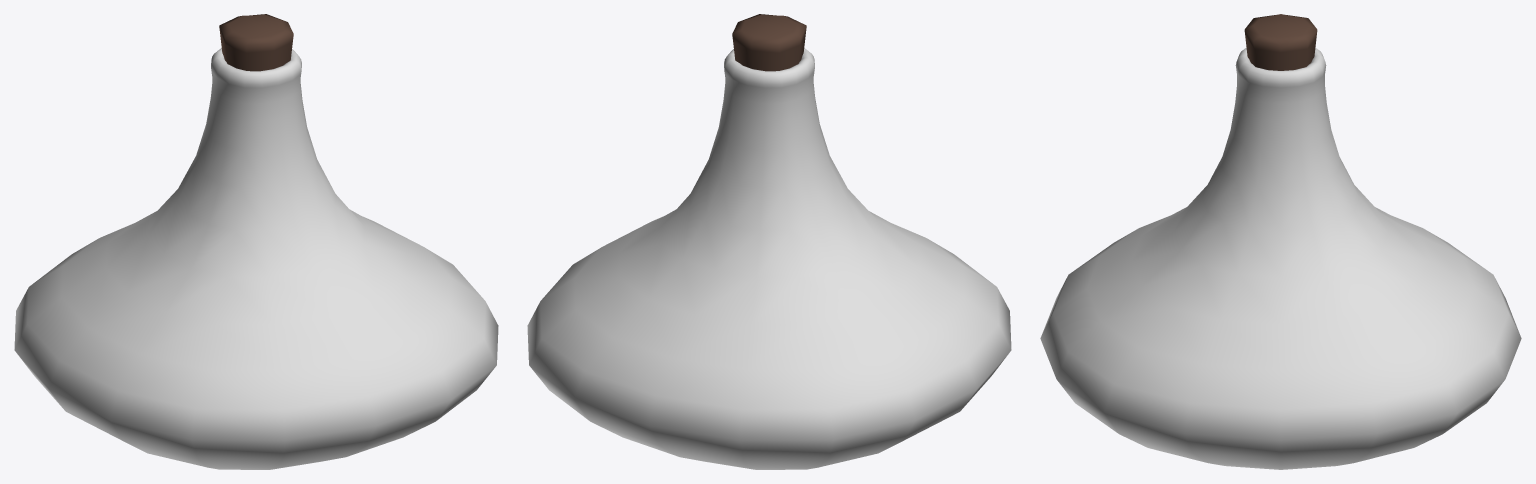
Rendered from quaternius-rpg-items-pack-potion8-filled.glb.
The picture shows the model from 3 angles, left to right: view 1: azimuth 30°, elevation 25°; view 2: azimuth 150°, elevation 25°; view 3: azimuth 270°, elevation 25°; orthographic projection.
Visible parts, largest first — view 1: Potion8_Filled; view 2: Potion8_Filled; view 3: Potion8_Filled.
Boxes of the visible parts, x1,y1,x2,y2 form: Potion8_Filled: [14, 14, 498, 469]; Potion8_Filled: [527, 14, 1011, 469]; Potion8_Filled: [1040, 14, 1521, 469].
Size of the model in its own units: 0.7035 by 0.6822 by 0.7035.
